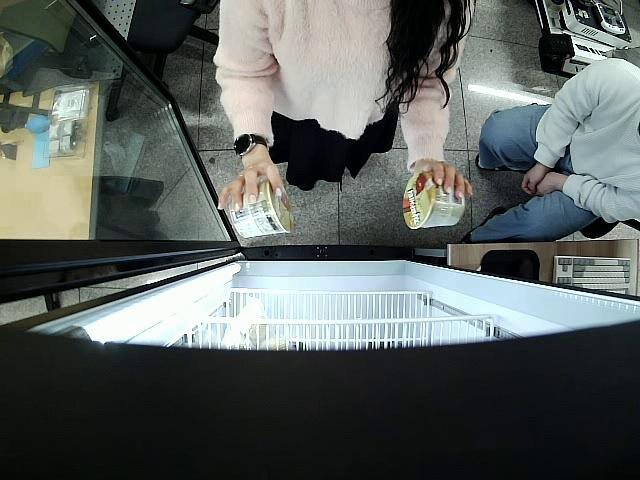04_chapagetti_S: (225, 178, 294, 241), (402, 170, 466, 232)
